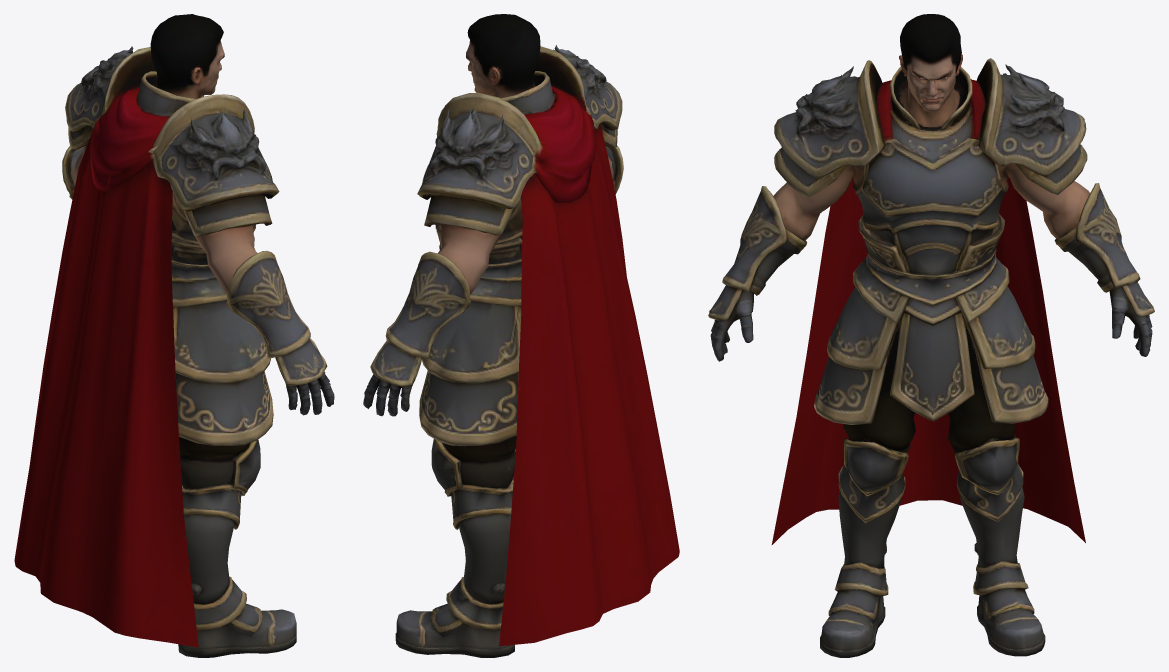
3 renders of one model, left to right at view 1: azimuth 30°, elevation 25°; view 2: azimuth 150°, elevation 25°; view 3: azimuth 270°, elevation 25°, orthographic.
Parts seen in each view (by area): view 1: tripo_node_fd2872db-9951-4800-b27f-0474941d15b5; view 2: tripo_node_fd2872db-9951-4800-b27f-0474941d15b5; view 3: tripo_node_fd2872db-9951-4800-b27f-0474941d15b5.
Part boxes in pixels (box(x1,y1,x2,y2)): tripo_node_fd2872db-9951-4800-b27f-0474941d15b5: box(14, 14, 334, 657); tripo_node_fd2872db-9951-4800-b27f-0474941d15b5: box(363, 14, 679, 657); tripo_node_fd2872db-9951-4800-b27f-0474941d15b5: box(708, 14, 1154, 657).
Bounding box in the file's own units: 0.6632 × 1.85 × 1.23.
Materials: 1 (1 with a texture image).
